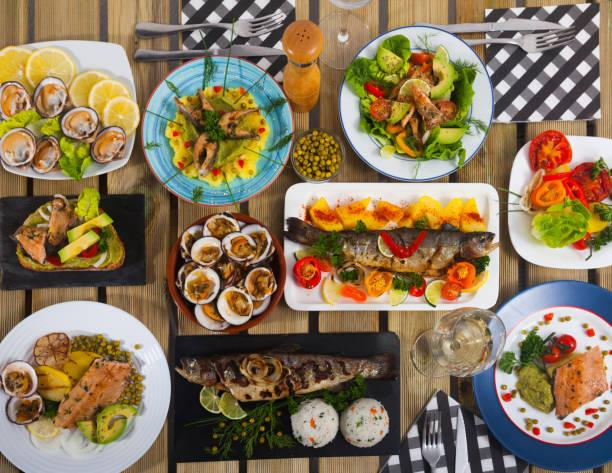Braised Crucian Carp: (170, 330, 394, 464), (0, 298, 171, 472), (284, 182, 492, 311), (474, 283, 610, 468), (340, 24, 494, 181), (141, 55, 291, 204), (0, 39, 140, 181), (166, 211, 286, 331), (1, 192, 146, 287), (509, 133, 612, 262)
